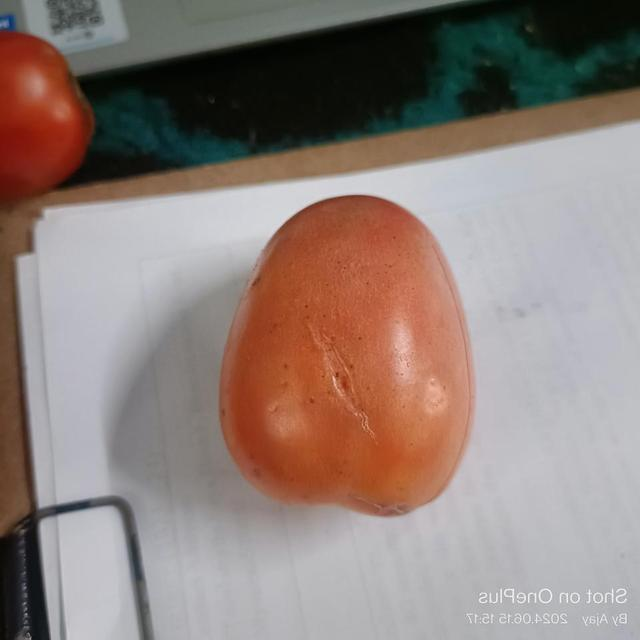Cracking Fruit: (105, 99, 315, 345)
